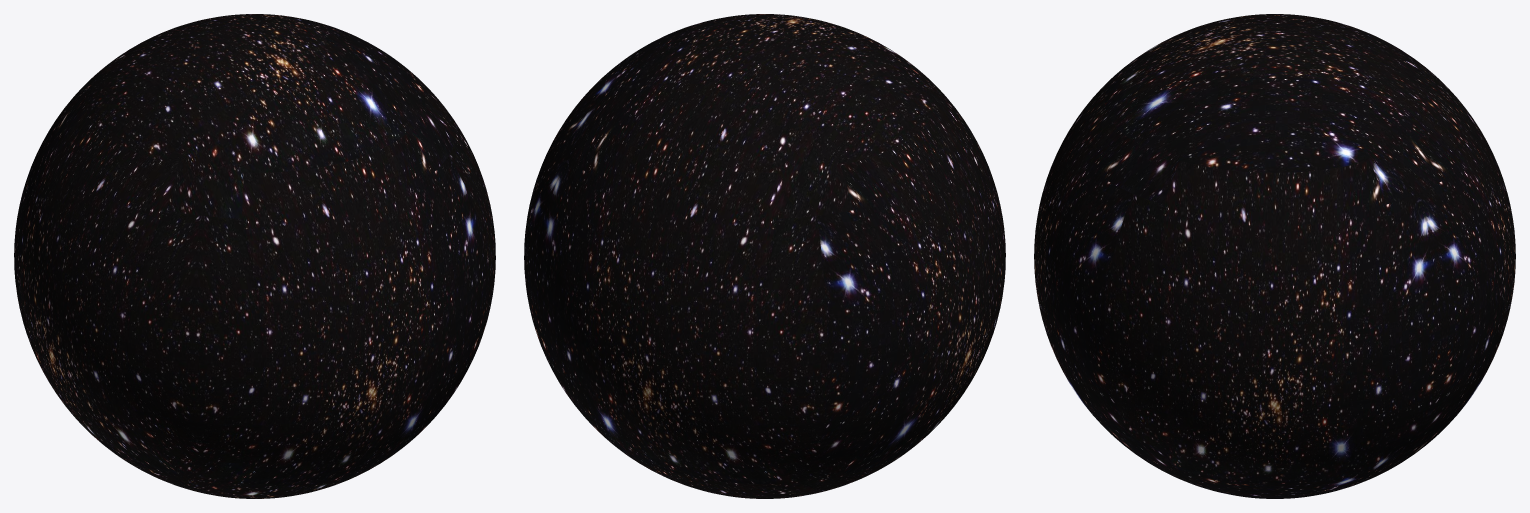
File: Nicolas.glb
The picture shows the model from 3 angles, left to right: view 1: azimuth 30°, elevation 25°; view 2: azimuth 150°, elevation 25°; view 3: azimuth 270°, elevation 25°; orthographic projection.
Parts seen in each view (by area): view 1: Universe; view 2: Universe; view 3: Universe.
Part boxes in pixels (x1,y1,x2,y2): Universe: [14, 14, 495, 498]; Universe: [524, 14, 1005, 498]; Universe: [1034, 14, 1515, 498].
Bounding box in the file's own units: 197 × 199 × 197.
Materials: 4 (3 with a texture image).
